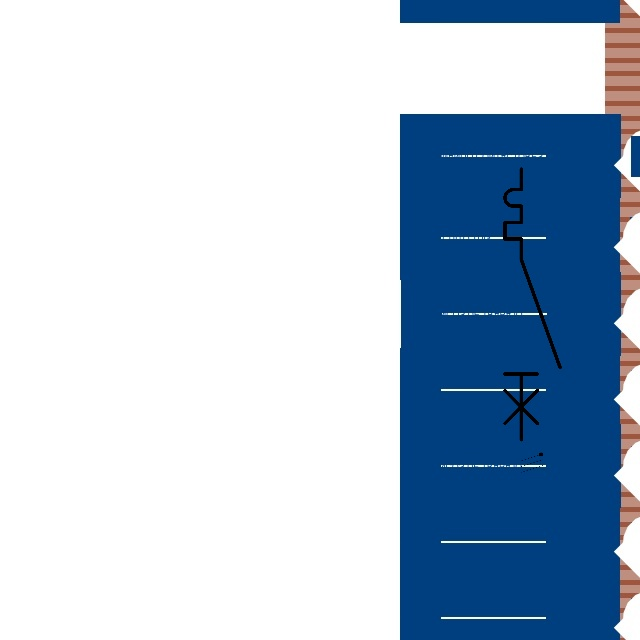interruptor_termomagnetico: (498, 162, 567, 447)
